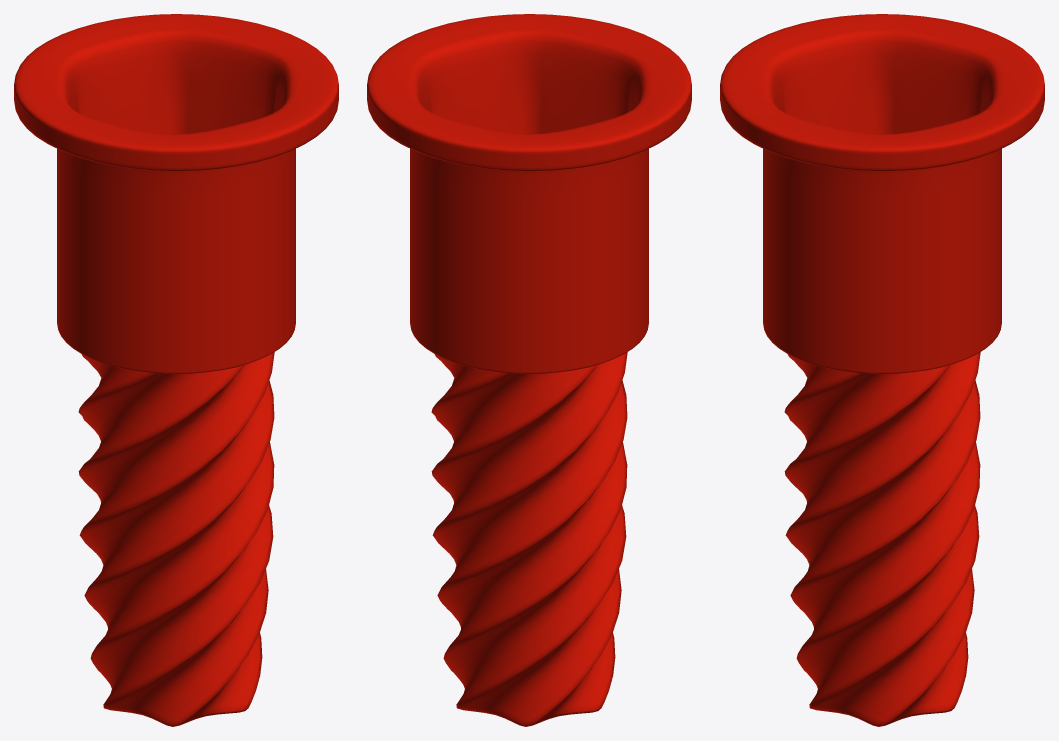
File: screw.fbx
3 renders of one model, left to right at view 1: azimuth 30°, elevation 25°; view 2: azimuth 150°, elevation 25°; view 3: azimuth 270°, elevation 25°, orthographic.
Parts seen in each view (by area): view 1: Screw Top, Screw Base; view 2: Screw Top, Screw Base; view 3: Screw Top, Screw Base.
Part boxes in pixels (x1,y1,x2,y2): Screw Top: (14,14,338,374); Screw Base: (78,352,274,726); Screw Top: (367,14,691,374); Screw Base: (431,352,627,726); Screw Top: (720,14,1044,374); Screw Base: (784,352,980,726).
Size of the model in its own units: 261 by 542 by 261.
